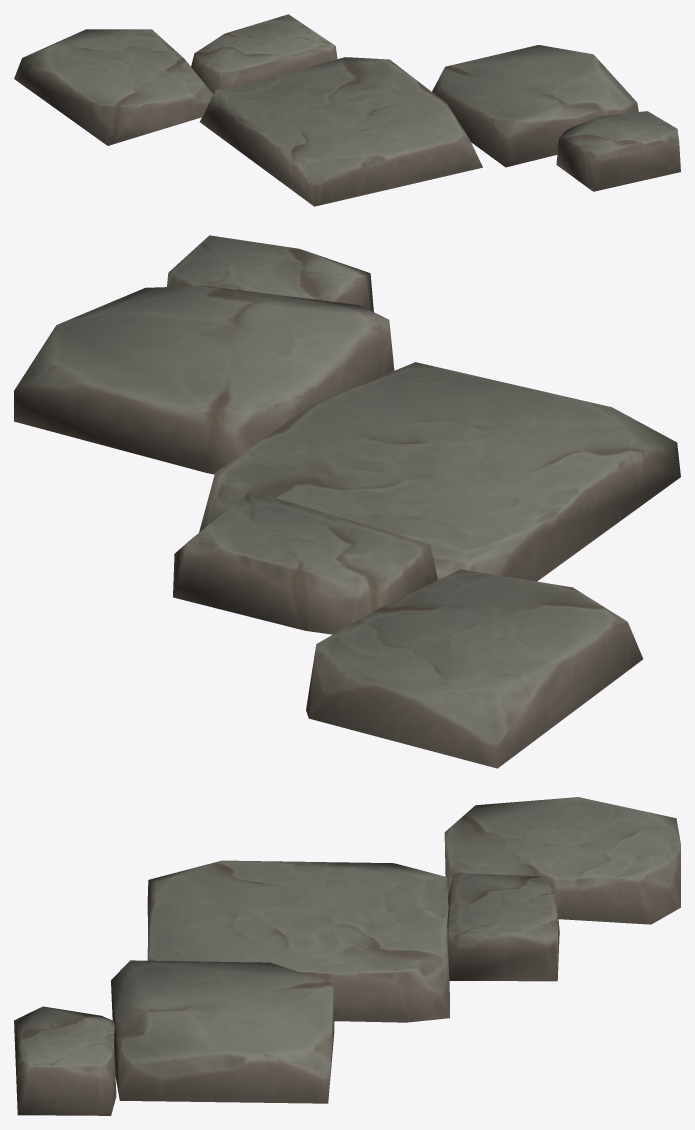
Rendered from SM_FW01_Floor_Tile_Group_05.fbx.
The picture shows the model from 3 angles, top to bottom: view 1: azimuth 30°, elevation 25°; view 2: azimuth 150°, elevation 25°; view 3: azimuth 270°, elevation 25°; orthographic projection. The views are drawn at different scales.
Parts seen in each view (by area): view 1: SM_FW01_Floor_Tile_Group_05; view 2: SM_FW01_Floor_Tile_Group_05; view 3: SM_FW01_Floor_Tile_Group_05.
Boxes of the visible parts, left/top/right/bottom form: SM_FW01_Floor_Tile_Group_05: left=14, top=14, right=680, bottom=206; SM_FW01_Floor_Tile_Group_05: left=14, top=235, right=680, bottom=768; SM_FW01_Floor_Tile_Group_05: left=14, top=797, right=680, bottom=1115.
Size of the model in its own units: 1.41 by 0.1688 by 1.49.
